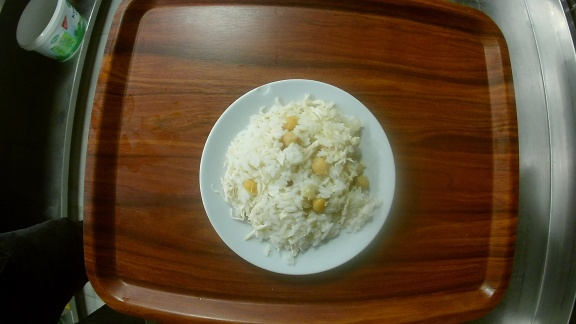nohutlupilav: (198, 79, 397, 274)
